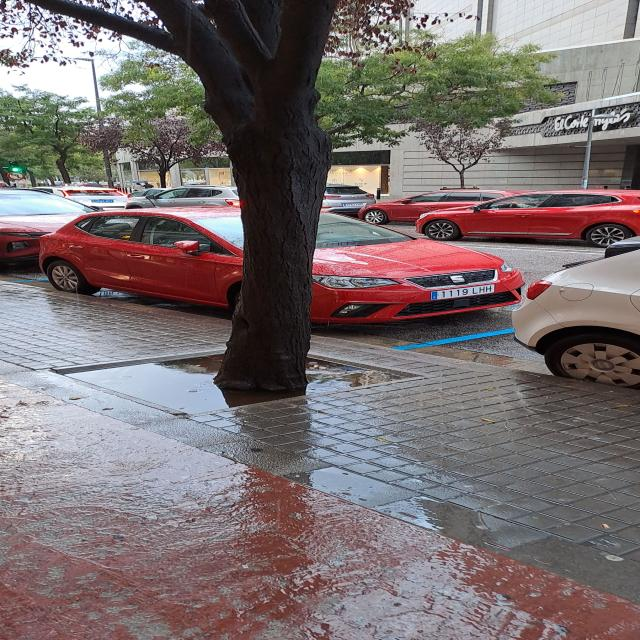license_plate-34Td: (431, 284, 494, 300)
